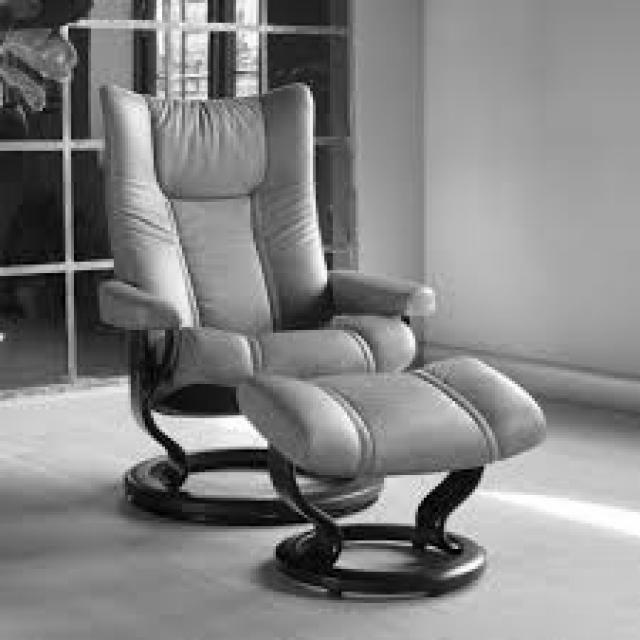chair: (99, 80, 552, 598)
